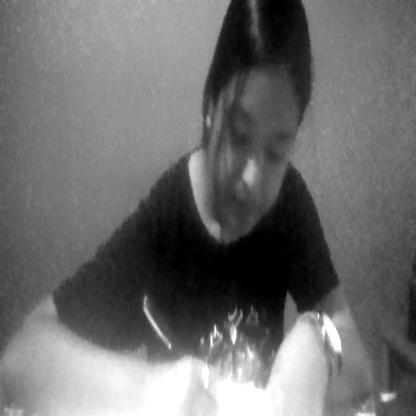Distracted: (206, 34, 313, 238)
